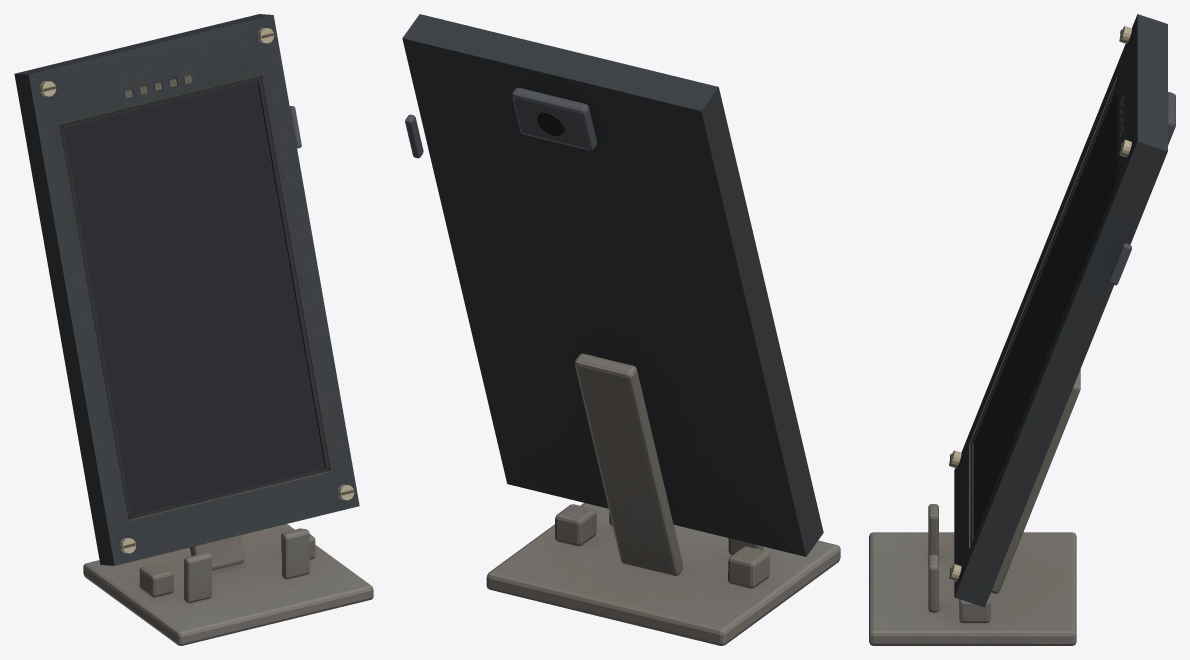
File: phone-c.glb
The picture shows the model from 3 angles, left to right: view 1: azimuth 30°, elevation 25°; view 2: azimuth 150°, elevation 25°; view 3: azimuth 270°, elevation 25°; orthographic projection. The views are drawn at different scales.
Visible parts, largest first — view 1: screen-glass, so-baked; view 2: so-baked; view 3: so-baked, screen-glass.
Part boxes in pixels (<box>): screen-glass: <box>64,81,324,514</box>; so-baked: <box>14,14,373,645</box>; so-baked: <box>402,14,840,645</box>; so-baked: <box>869,14,1175,645</box>; screen-glass: <box>974,90,1115,536</box>.
Bounding box in the file's own units: 0.0772 × 0.1379 × 0.0739.
Materials: 3 (1 with a texture image).
